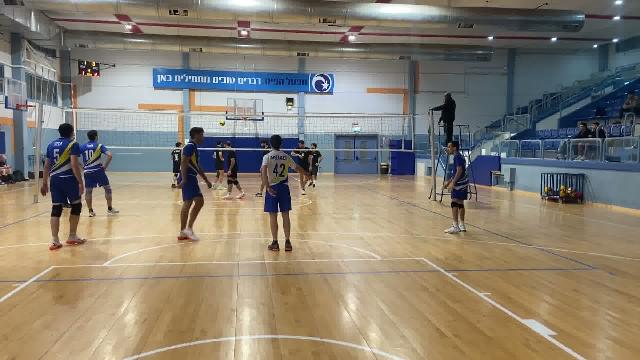ball: (220, 118, 227, 128)
